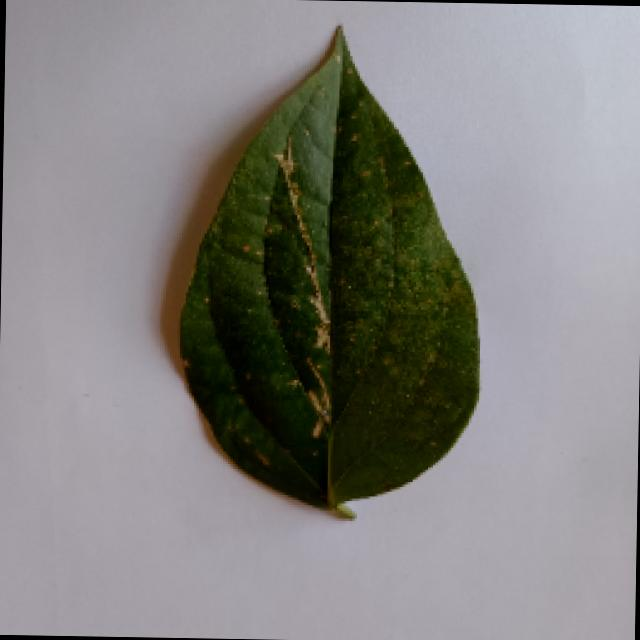pollu-disease: (157, 24, 518, 528)
